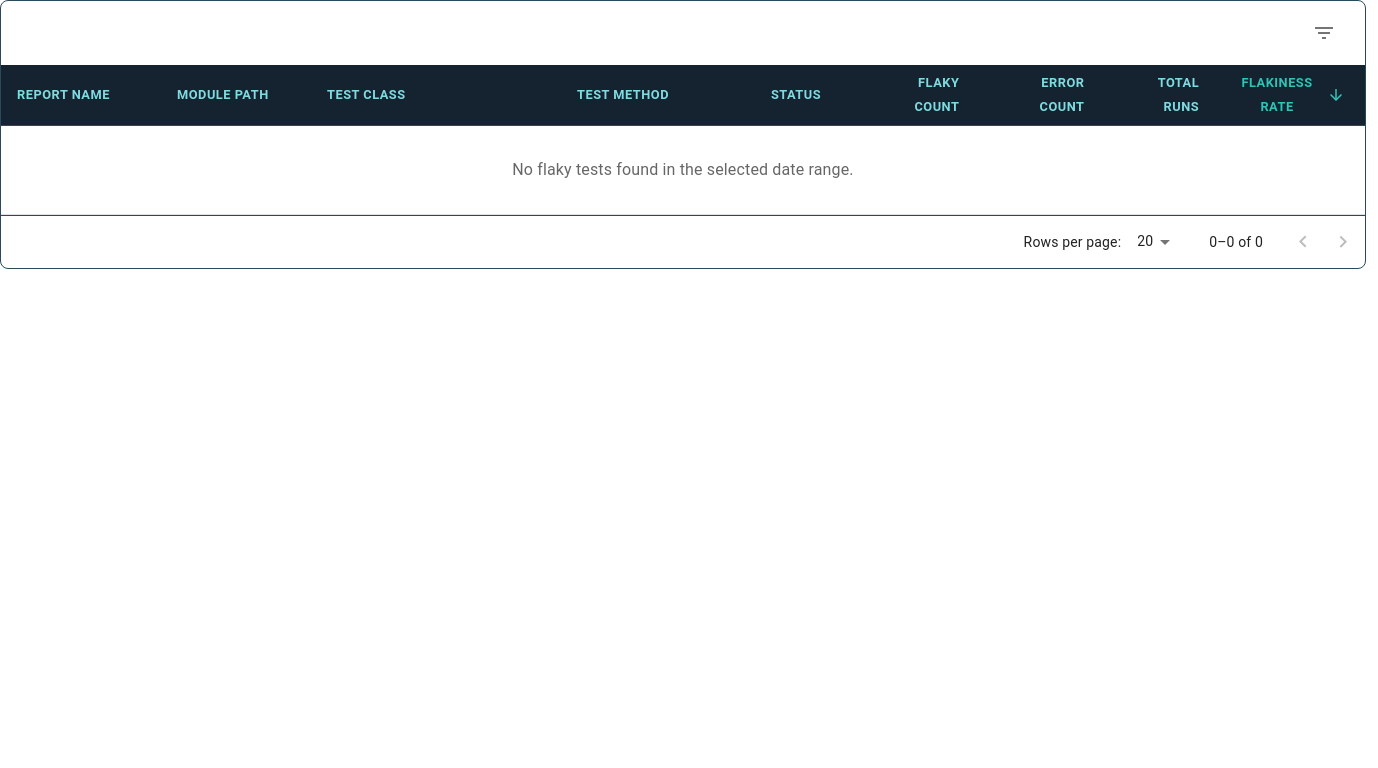
FlakyTestTable › column visibility › opens column menu on toggle button click
Step 1. Click the button named "Show / hide columns" → (1324,33), box [1307,16,1341,50]
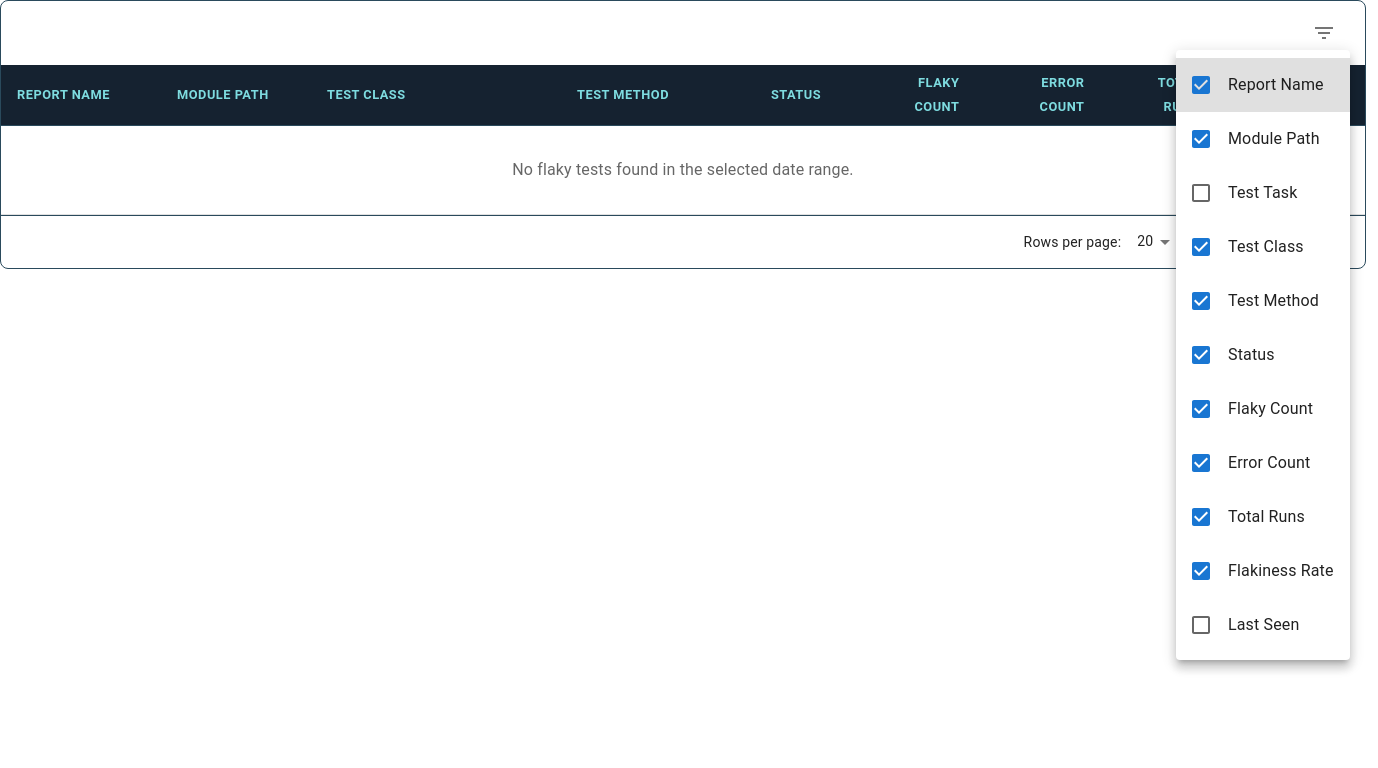
Result: the number of menu items is 11
